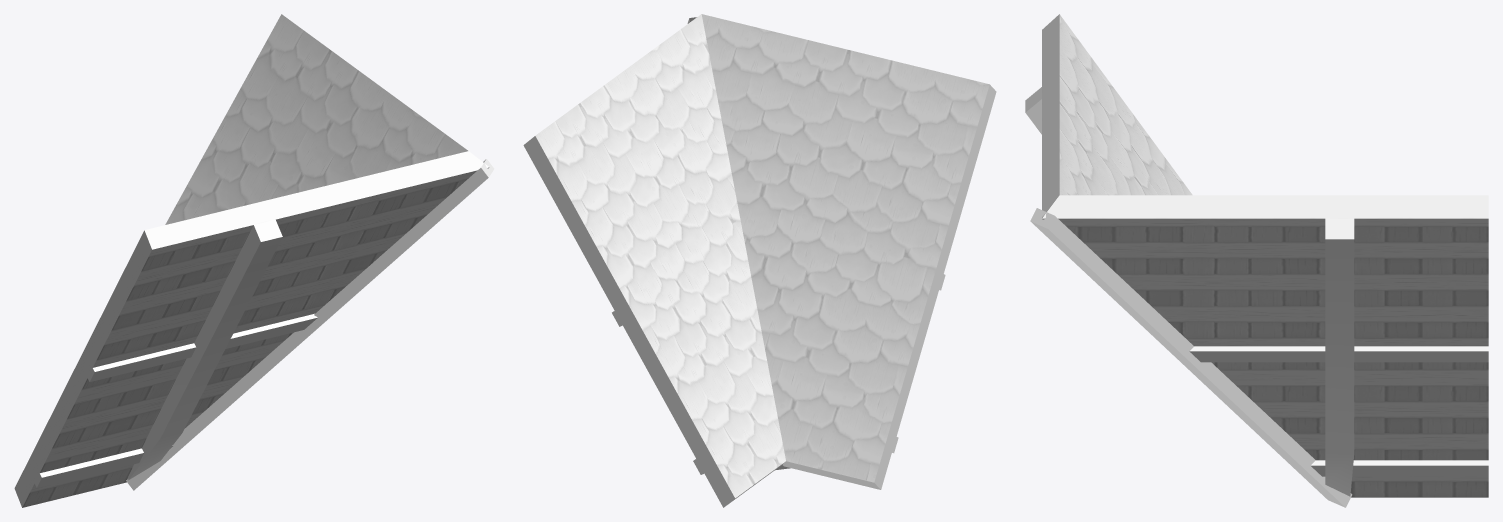
The model's file is ARC0110017.fbx.
The picture shows the model from 3 angles, left to right: view 1: azimuth 30°, elevation 25°; view 2: azimuth 150°, elevation 25°; view 3: azimuth 270°, elevation 25°; orthographic projection. The views are drawn at different scales.
Visible parts, largest first — view 1: smARC0110017; view 2: smARC0110017; view 3: smARC0110017.
Part boxes in pixels (<box>): smARC0110017: <box>14,14,494,507</box>; smARC0110017: <box>523,14,996,507</box>; smARC0110017: <box>1025,14,1488,507</box>.
Size of what is drawn, in the model's own units: 354 by 360 by 354.
1 material, 1 textured.
